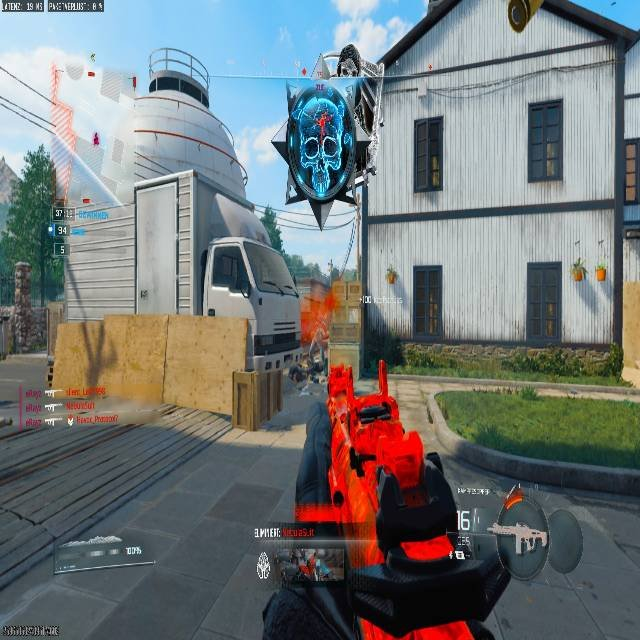head: (312, 359, 320, 366)
player: (289, 344, 333, 419), (309, 359, 323, 384)
